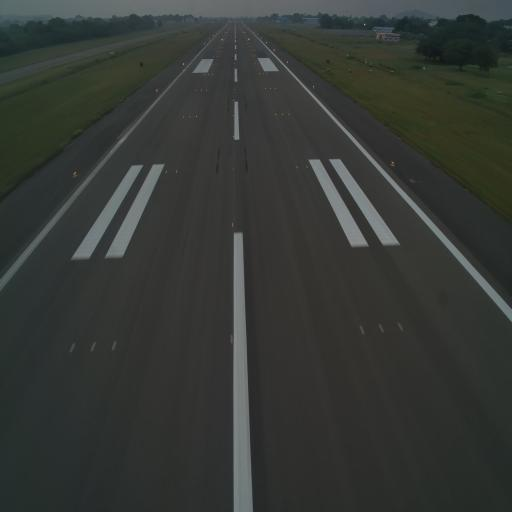off: (232, 163, 236, 173)
on: (229, 329, 235, 346), (72, 168, 79, 180), (230, 218, 236, 229), (294, 162, 300, 172), (231, 133, 236, 141), (163, 168, 168, 176), (391, 160, 396, 168), (175, 167, 179, 176), (304, 163, 309, 170), (154, 168, 158, 175), (315, 165, 318, 168)
